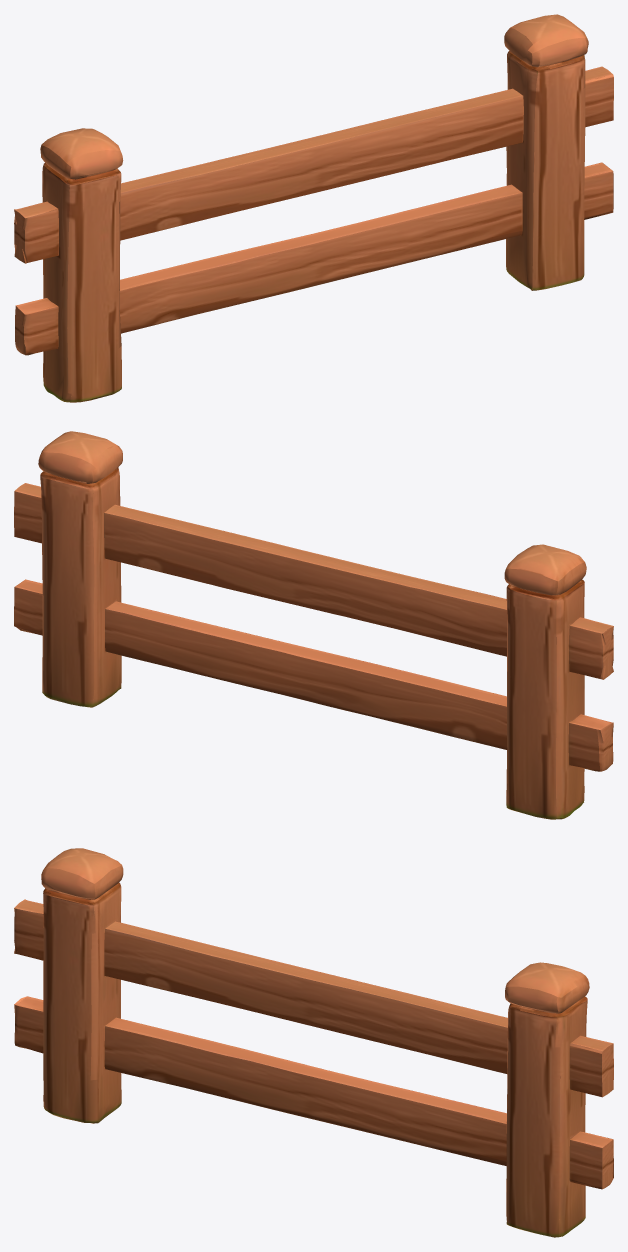
Rendered from fence_rail_1.glb.
3 renders of one model, top to bottom at view 1: azimuth 30°, elevation 25°; view 2: azimuth 150°, elevation 25°; view 3: azimuth 330°, elevation 25°, orthographic.
Visible parts, largest first — view 1: Mesh0; view 2: Mesh0; view 3: Mesh0.
Part boxes in pixels (bbox=[...]): Mesh0: bbox=[14, 14, 613, 402]; Mesh0: bbox=[14, 431, 613, 819]; Mesh0: bbox=[14, 848, 613, 1237].
Bounding box in the file's own units: 1 × 0.4142 × 0.0989.
1 material, 1 textured.
